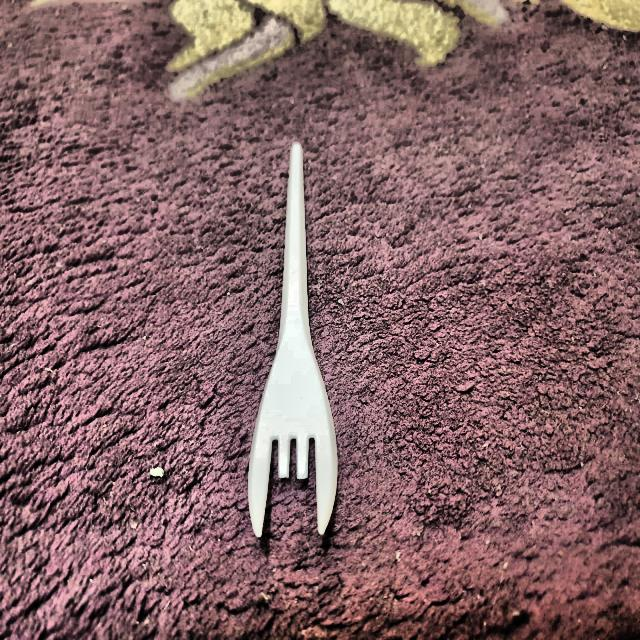plastic utensil: (248, 138, 342, 549)
